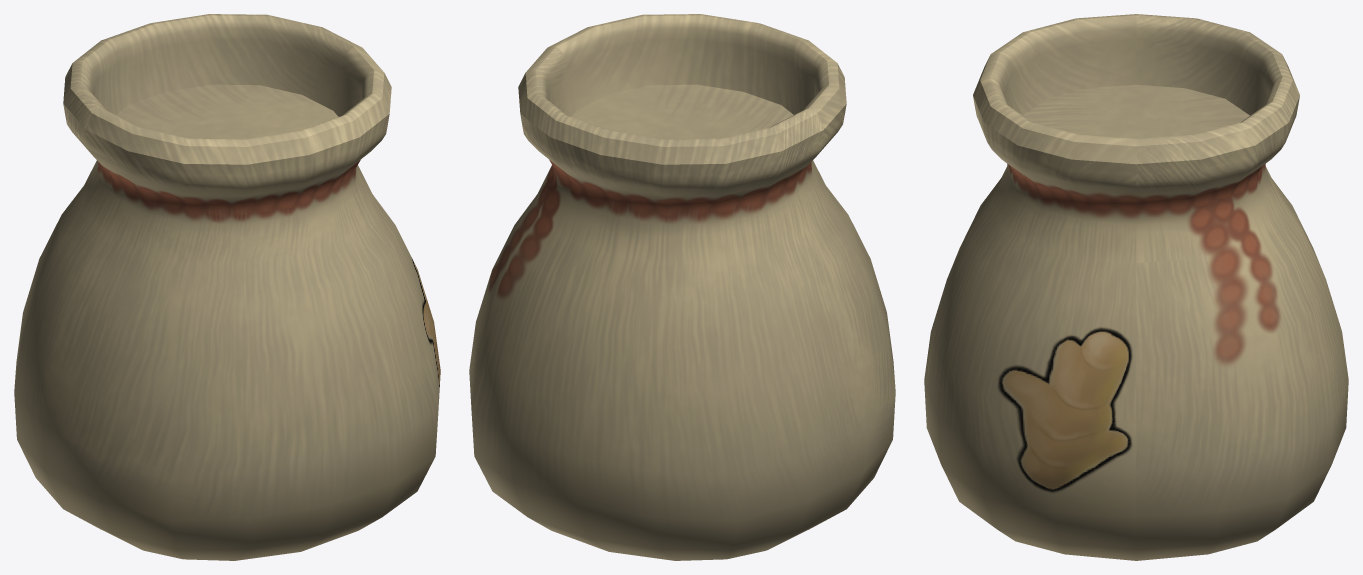
Rendered from Model_TexturaSacoAberto1Gengibre_v1.fbx.
3 views of the same model, side by side, from view 1: azimuth 30°, elevation 25°; view 2: azimuth 150°, elevation 25°; view 3: azimuth 270°, elevation 25° (orthographic).
Parts seen in each view (by area): view 1: saco cheio.004; view 2: saco cheio.004; view 3: saco cheio.004.
Part boxes in pixels (x1,y1,x2,y2): saco cheio.004: (14, 14, 440, 560); saco cheio.004: (469, 14, 895, 560); saco cheio.004: (924, 14, 1348, 560).
Size of the model in its own units: 236 by 268 by 236.
